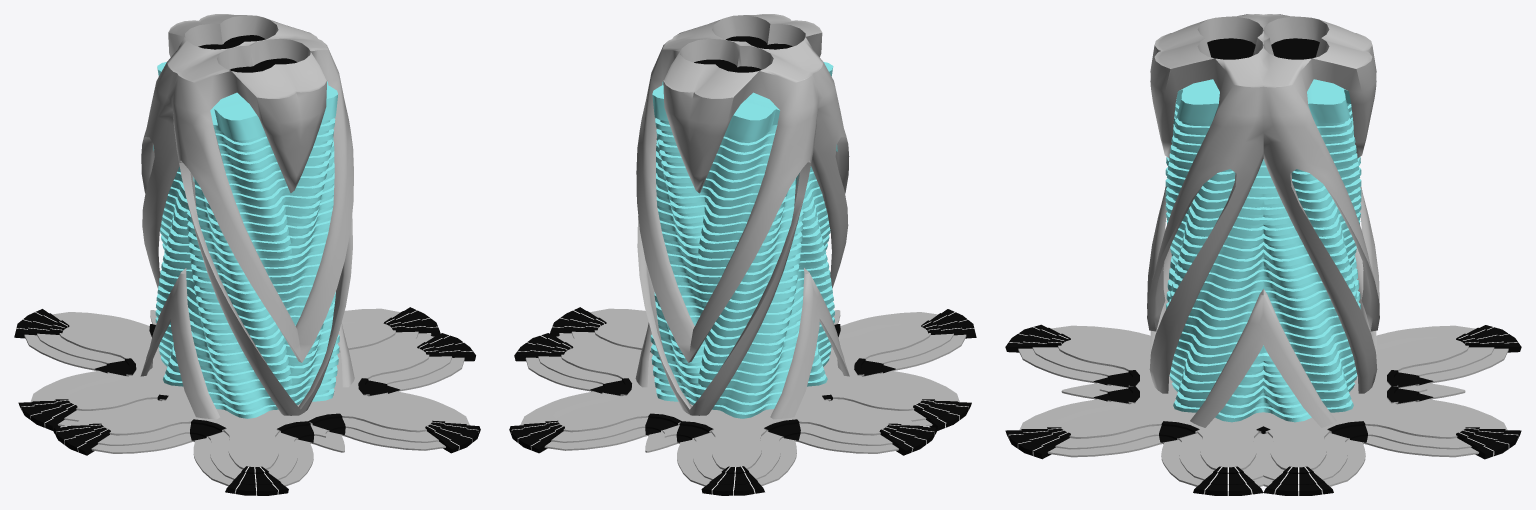
3 views of the same model, side by side, from view 1: azimuth 30°, elevation 25°; view 2: azimuth 150°, elevation 25°; view 3: azimuth 270°, elevation 25° (orthographic). The views are drawn at different scales.
Parts seen in each view (by area): view 1: EXT_02, EXT_03_, EXT_01_Glass, EXT_05, EXT_04, EXT_06_Light, EXT_07_Light_beam_Surface; view 2: EXT_02, EXT_03_, EXT_01_Glass, EXT_05, EXT_04, EXT_06_Light, EXT_07_Light_beam_Surface; view 3: EXT_02, EXT_01_Glass, EXT_03_, EXT_05, EXT_04, EXT_07_Light_beam_Surface, EXT_06_Light.
Part boxes in pixels (x1,y1,x2,y2): EXT_02: (140, 14, 354, 419); EXT_03_: (24, 308, 469, 486); EXT_01_Glass: (153, 62, 339, 418); EXT_05: (14, 307, 480, 495); EXT_04: (95, 324, 399, 442); EXT_06_Light: (16, 310, 478, 495); EXT_07_Light_beam_Surface: (198, 35, 297, 72); EXT_02: (635, 14, 849, 419); EXT_03_: (520, 308, 966, 486); EXT_01_Glass: (650, 62, 837, 418); EXT_05: (509, 307, 976, 495); EXT_04: (590, 324, 895, 442); EXT_06_Light: (511, 310, 974, 495); EXT_07_Light_beam_Surface: (694, 36, 792, 72); EXT_02: (1147, 14, 1379, 427); EXT_01_Glass: (1165, 79, 1361, 422); EXT_03_: (1018, 325, 1508, 486); EXT_05: (1005, 324, 1521, 495); EXT_04: (1093, 370, 1433, 442); EXT_07_Light_beam_Surface: (1207, 38, 1319, 59); EXT_06_Light: (1008, 327, 1518, 495).
Size of the model in its own units: 21231 by 17259 by 22669.
